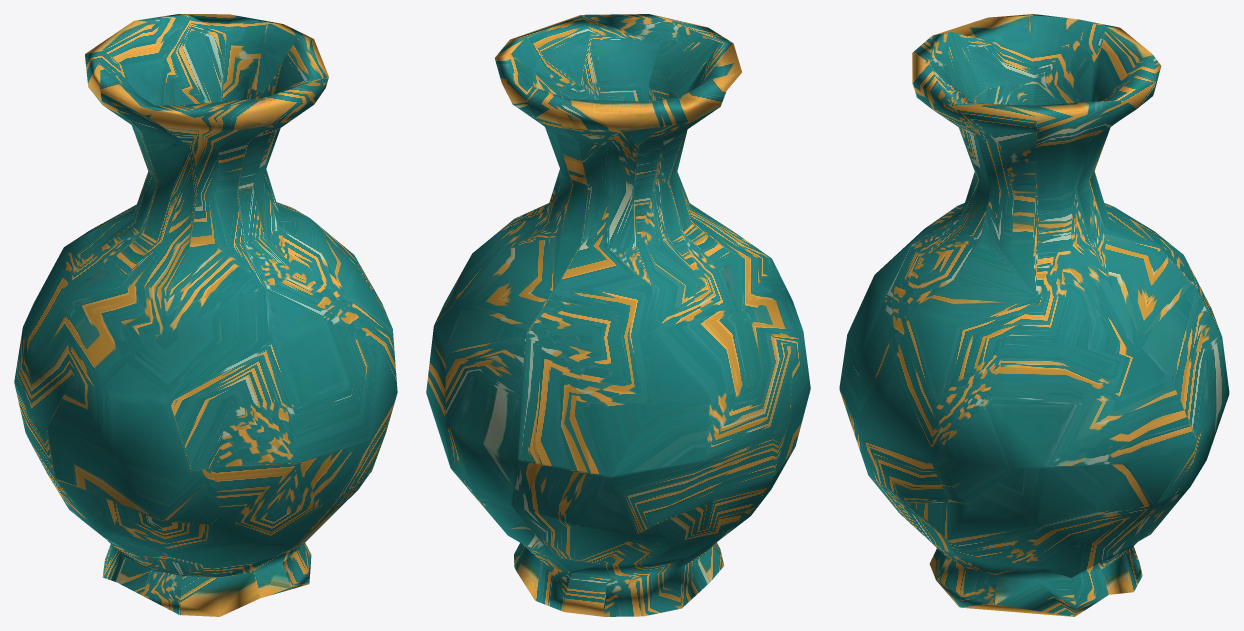
The model's file is vase_teal.glb.
The picture shows the model from 3 angles, left to right: view 1: azimuth 30°, elevation 25°; view 2: azimuth 150°, elevation 25°; view 3: azimuth 270°, elevation 25°; orthographic projection.
Size of the model in its own units: 0.6434 by 0.9517 by 0.6532.
1 material, 1 textured.
